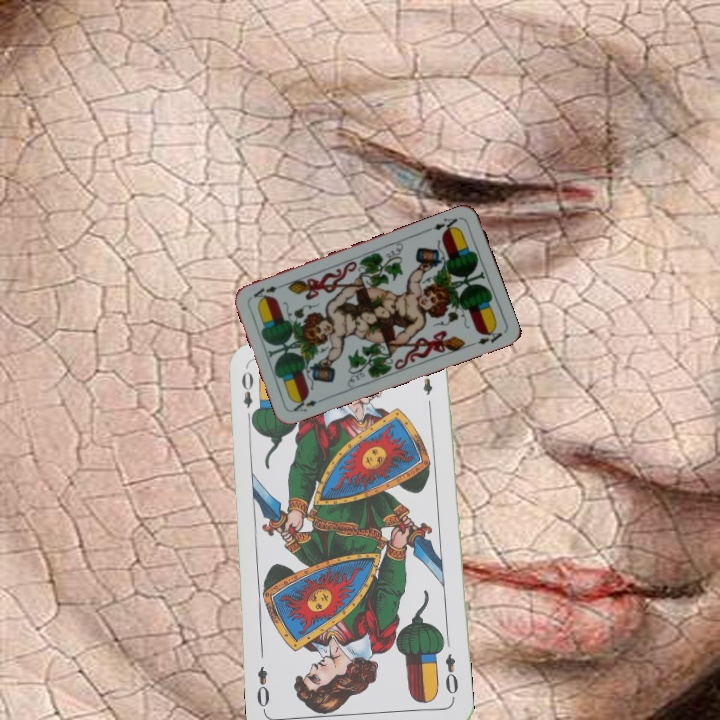EA: (289, 393, 328, 415), (429, 213, 463, 236)
EO: (237, 367, 259, 425), (441, 650, 461, 697)
